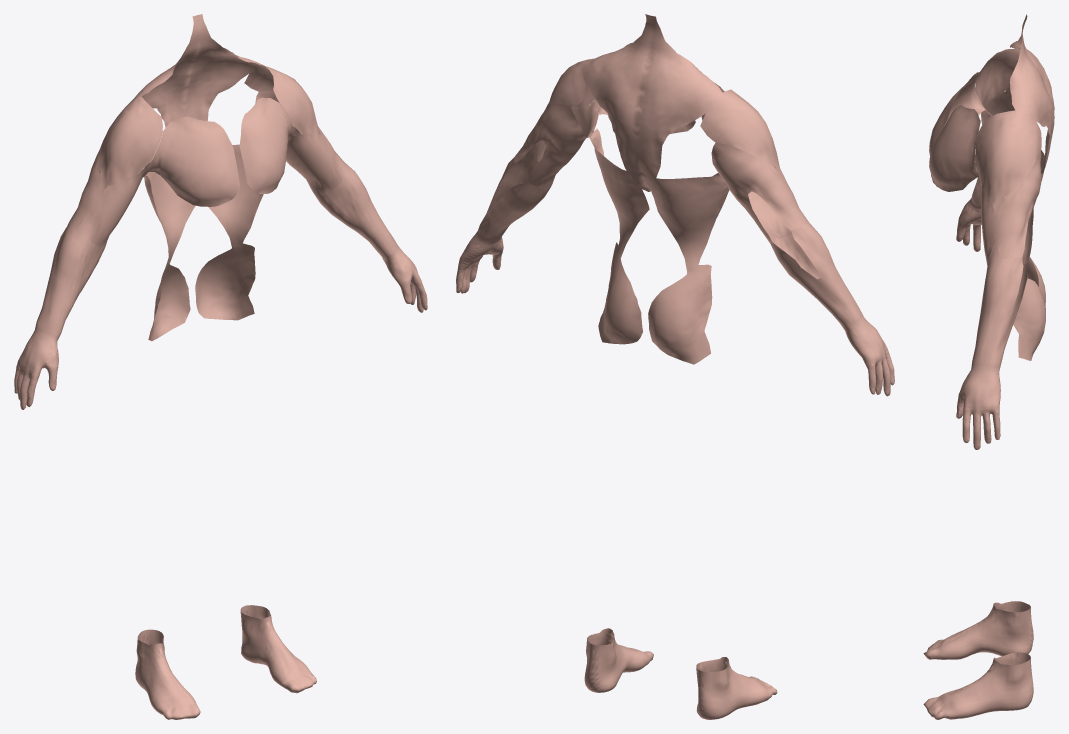
The model's file is BETAMale.glb.
3 renders of one model, left to right at view 1: azimuth 30°, elevation 25°; view 2: azimuth 150°, elevation 25°; view 3: azimuth 270°, elevation 25°, orthographic. The views are drawn at different scales.
Visible parts, largest first — view 1: Chest, Forearms, Feet, Shoulders Deltoid, Traps, Glutes, Biceps Brachii, Lats, Hand (Grip), Triceps Brachii; view 2: Traps, Forearms, Glutes, Triceps Brachii, Lats, Feet, Shoulders Deltoid, Hand (Grip), Biceps Brachii; view 3: Feet, Shoulders Deltoid, Chest, Forearms, Hand (Grip), Triceps Brachii, Traps, Glutes, Biceps Brachii.
Part boxes in pixels (bbox=[...]): Chest: bbox=[139, 97, 301, 206]; Forearms: bbox=[35, 154, 396, 336]; Feet: bbox=[135, 605, 316, 719]; Shoulders Deltoid: bbox=[99, 66, 323, 192]; Traps: bbox=[133, 14, 265, 127]; Glutes: bbox=[148, 243, 255, 340]; Biceps Brachii: bbox=[89, 133, 342, 248]; Lats: bbox=[141, 144, 263, 263]; Hand (Grip): bbox=[14, 243, 427, 409]; Triceps Brachii: bbox=[69, 91, 344, 229]; Traps: bbox=[582, 14, 724, 191]; Forearms: bbox=[479, 144, 861, 327]; Glutes: bbox=[598, 242, 712, 364]; Triceps Brachii: bbox=[514, 103, 806, 243]; Lats: bbox=[589, 128, 729, 274]; Feet: bbox=[584, 628, 777, 719]; Shoulders Deltoid: bbox=[547, 58, 784, 179]; Hand (Grip): bbox=[456, 228, 894, 396]; Biceps Brachii: bbox=[535, 106, 797, 237]; Feet: bbox=[923, 601, 1033, 719]; Shoulders Deltoid: bbox=[975, 49, 1041, 213]; Chest: bbox=[929, 71, 985, 191]; Forearms: bbox=[971, 177, 1028, 366]; Hand (Grip): bbox=[956, 198, 1000, 449]; Triceps Brachii: bbox=[996, 88, 1041, 264]; Traps: bbox=[1009, 14, 1054, 173]; Glutes: bbox=[1013, 256, 1045, 360]; Biceps Brachii: bbox=[980, 97, 1005, 264].
Size of the model in its own units: 1.19 by 1.84 by 0.3284.
